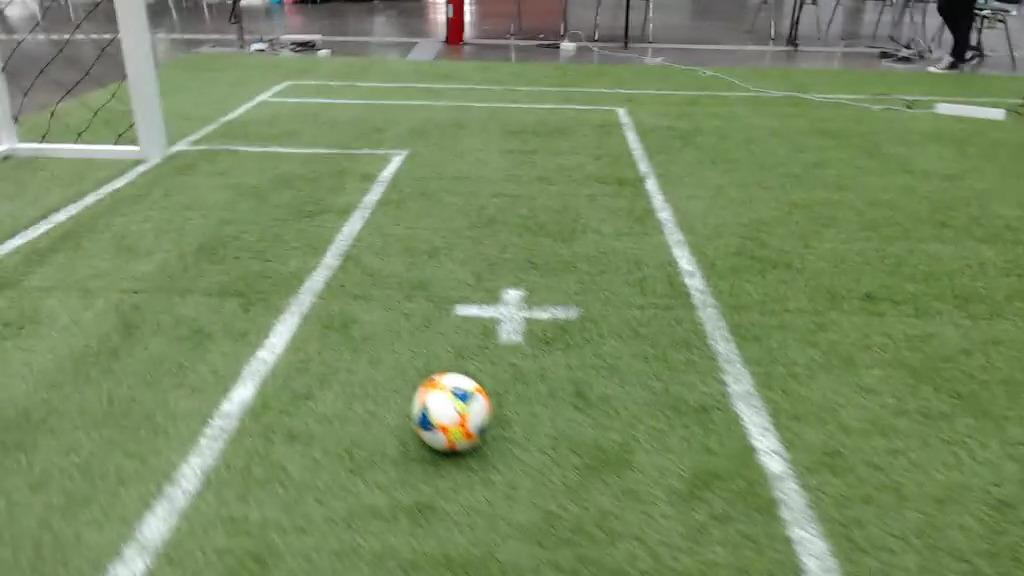ball: (412, 372, 491, 452)
